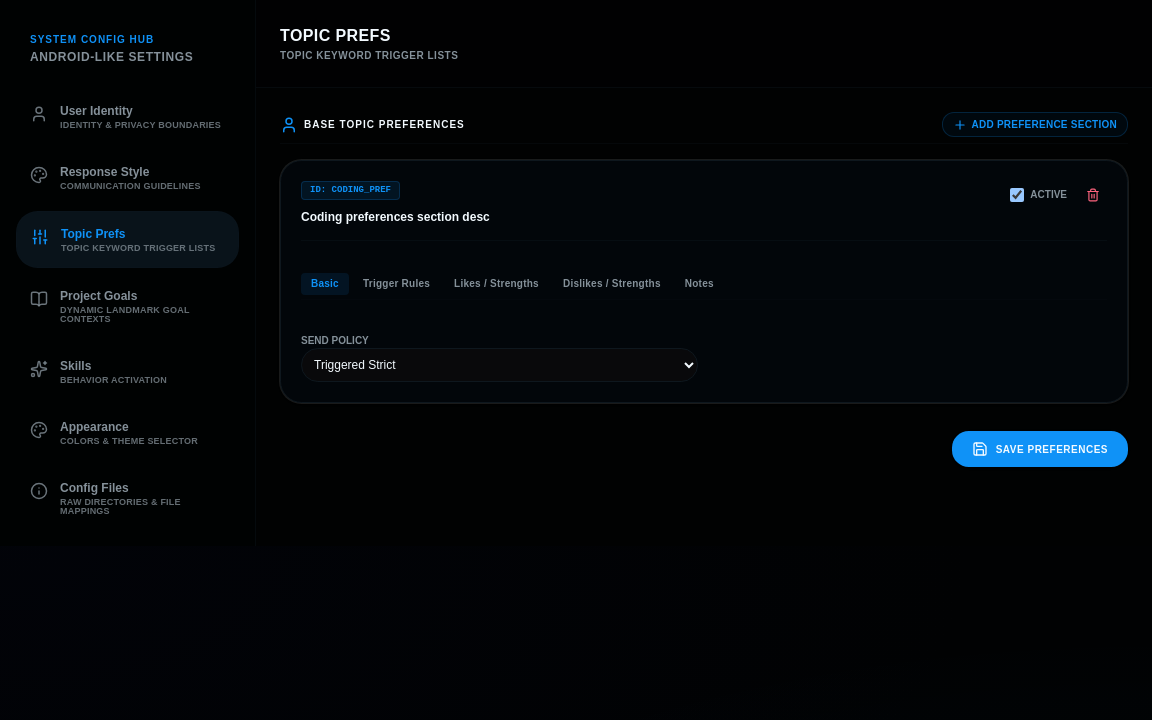
Scenario: PreferencesEditor Tests › Verify all Preference section components are rendered & tabs function
Expected: the heading "Base Topic Preferences" is shown, [280,116,465,134]
Expected: the text "Send Policy" is shown, [301,335,369,346]
Click the button "Trigger Rules".
click(396, 284)  # box [353,273,440,295]
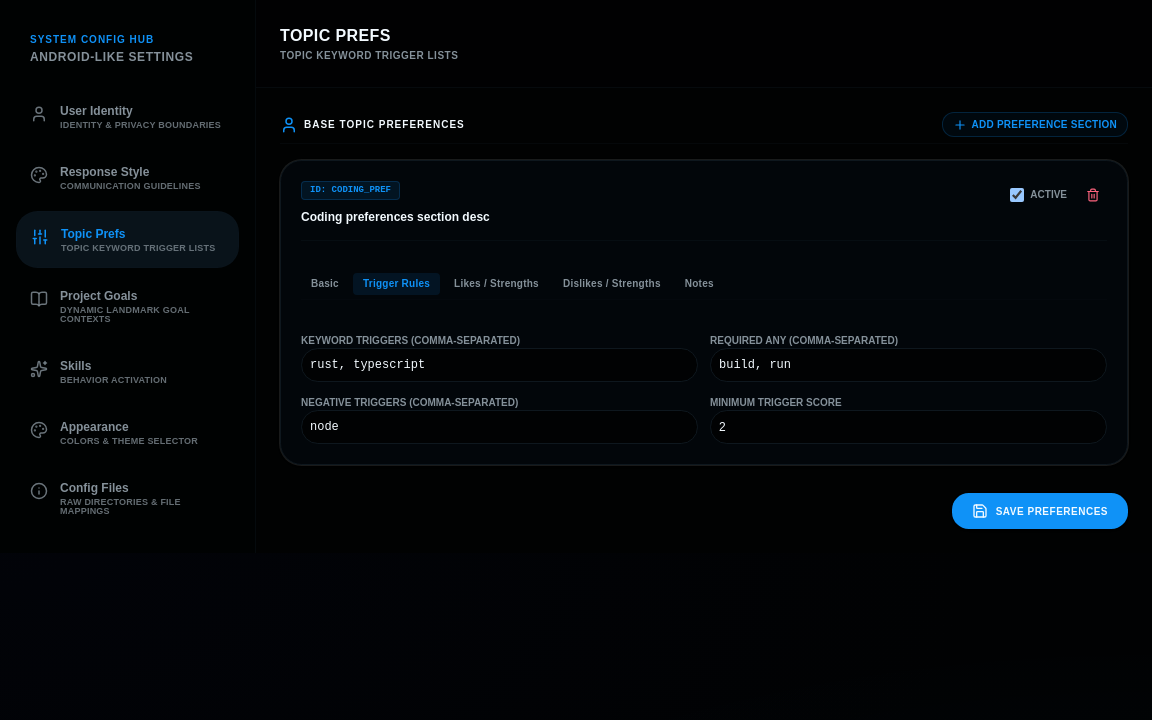
Expected: the text "Keyword Triggers (comma-separated)" is shown, [301,335,520,346]
Expected: the text "Required Any (comma-separated)" is shown, [710,335,898,346]
Expected: the text "Negative Triggers (comma-separated)" is shown, [301,397,518,408]
// Click Likes / Strengths tab
Click the button "Likes / Strengths".
click(496, 284)  # box [444,273,549,295]
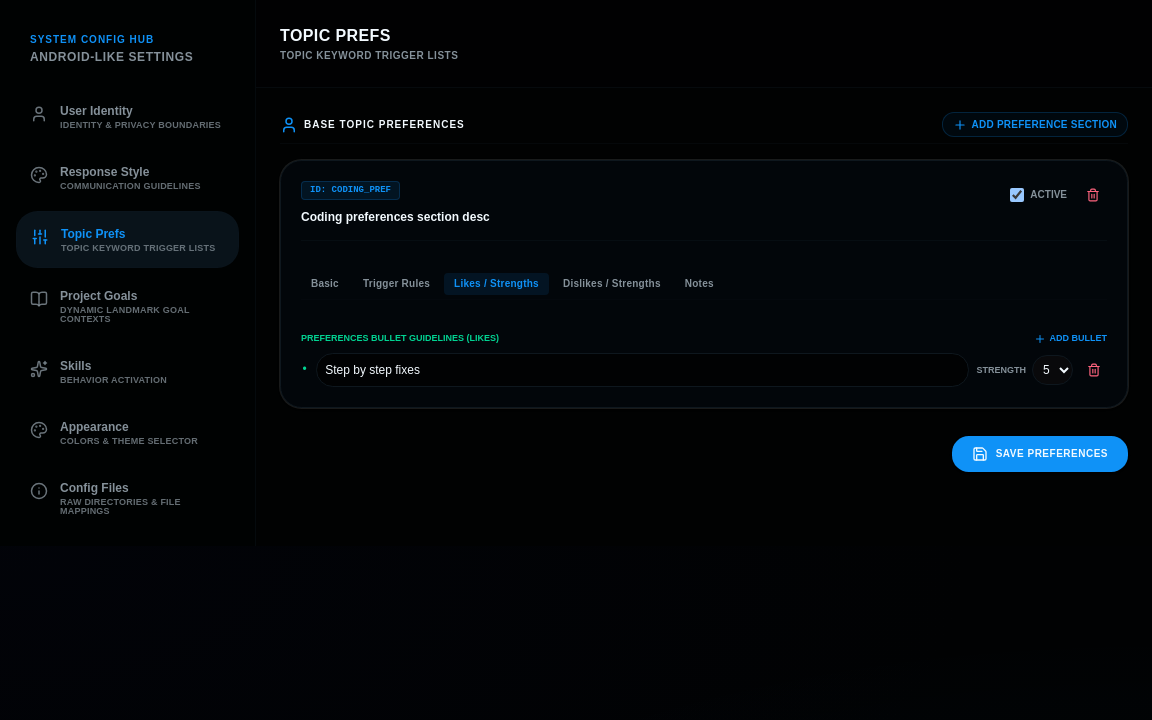
Expected: the text "Preferences Bullet Guidelines (Likes)" is shown, [301,332,499,345]
Expected: the field showing "Step by step fixes" below "Preferences Bullet Guidelines (Likes)" is shown, [316,353,968,387]
Expected: the dropdown showing "5" is shown, [1032,355,1073,385]
Click the button "Dislikes / Strengths".
click(612, 284)  # box [553,273,671,295]
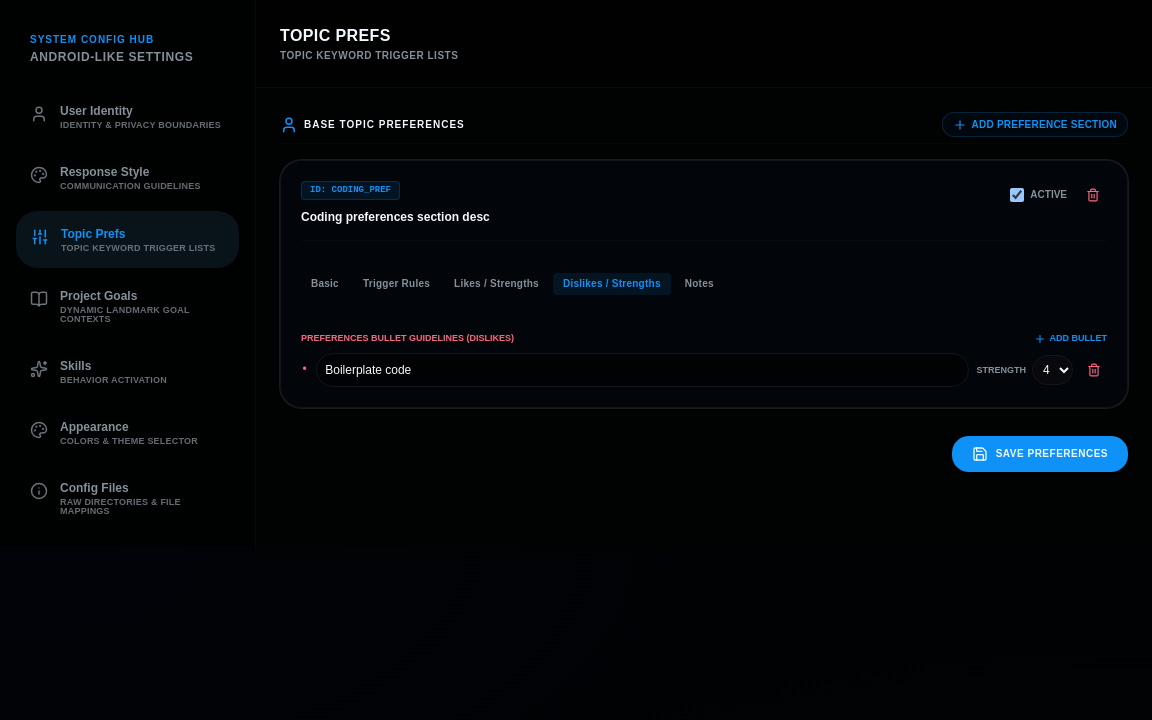
Expected: the text "Preferences Bullet Guidelines (Dislikes)" is shown, [301,332,514,345]
Expected: the field showing "Boilerplate code" below "Preferences Bullet Guidelines (Dislikes)" is shown, [316,353,968,387]
Expected: the dropdown showing "4" is shown, [1032,355,1073,385]
// Click Notes tab
Click the button "Notes".
click(699, 284)  # box [675,273,724,295]
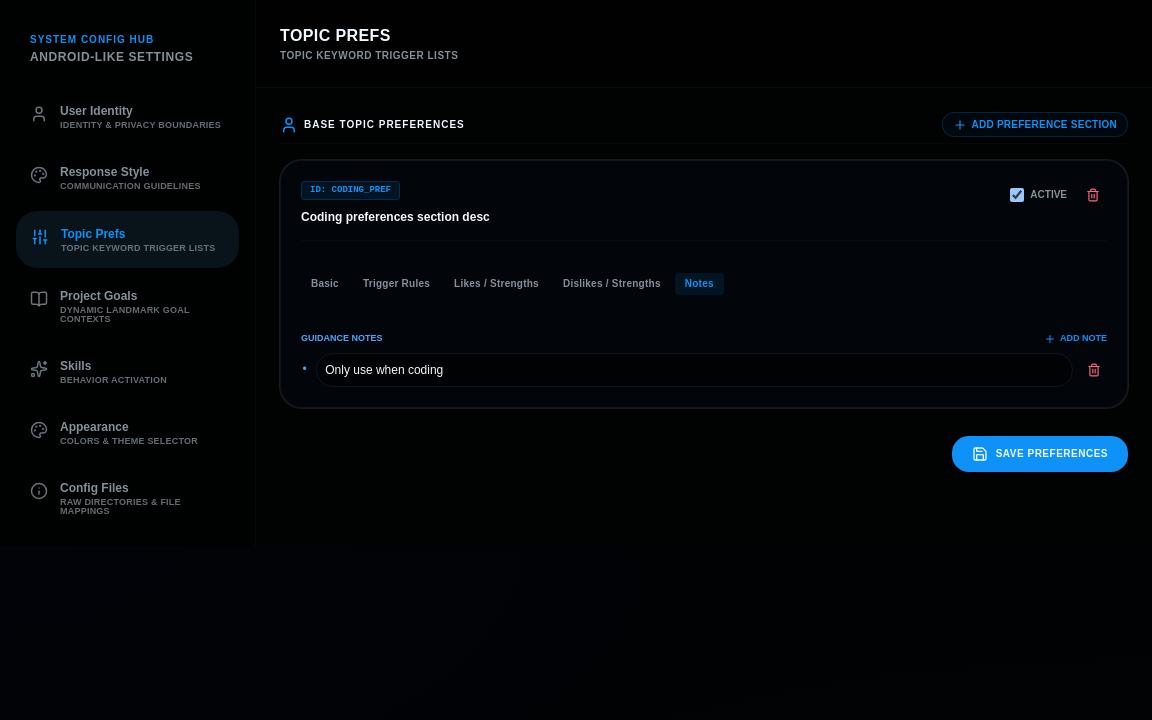
Expected: the text "Guidance Notes" is shown, [301,332,382,345]
Expected: the field showing "Only use when coding" below "Guidance Notes" is shown, [316,353,1073,387]
